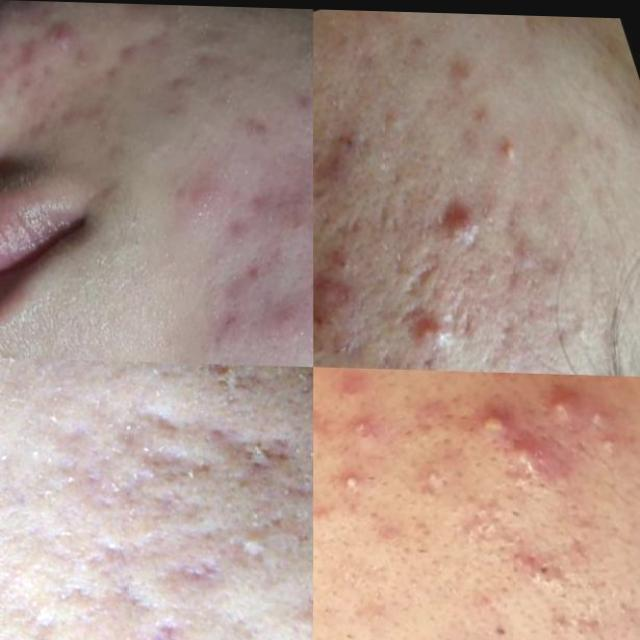8: (23, 1, 109, 70), (424, 184, 495, 264), (247, 273, 313, 341), (438, 46, 488, 95), (314, 263, 358, 314), (313, 304, 347, 353)
9: (454, 381, 510, 446), (400, 302, 454, 357), (484, 123, 534, 171), (328, 458, 372, 504), (406, 450, 444, 493), (544, 375, 580, 420), (580, 394, 616, 435), (591, 421, 627, 458)
blackheads: (138, 428, 212, 488), (222, 413, 292, 471), (157, 535, 223, 592), (114, 602, 182, 640), (75, 526, 128, 573), (273, 455, 313, 510)
dark spot: (494, 529, 564, 598), (442, 491, 508, 541)
pustules: (493, 423, 557, 485)
